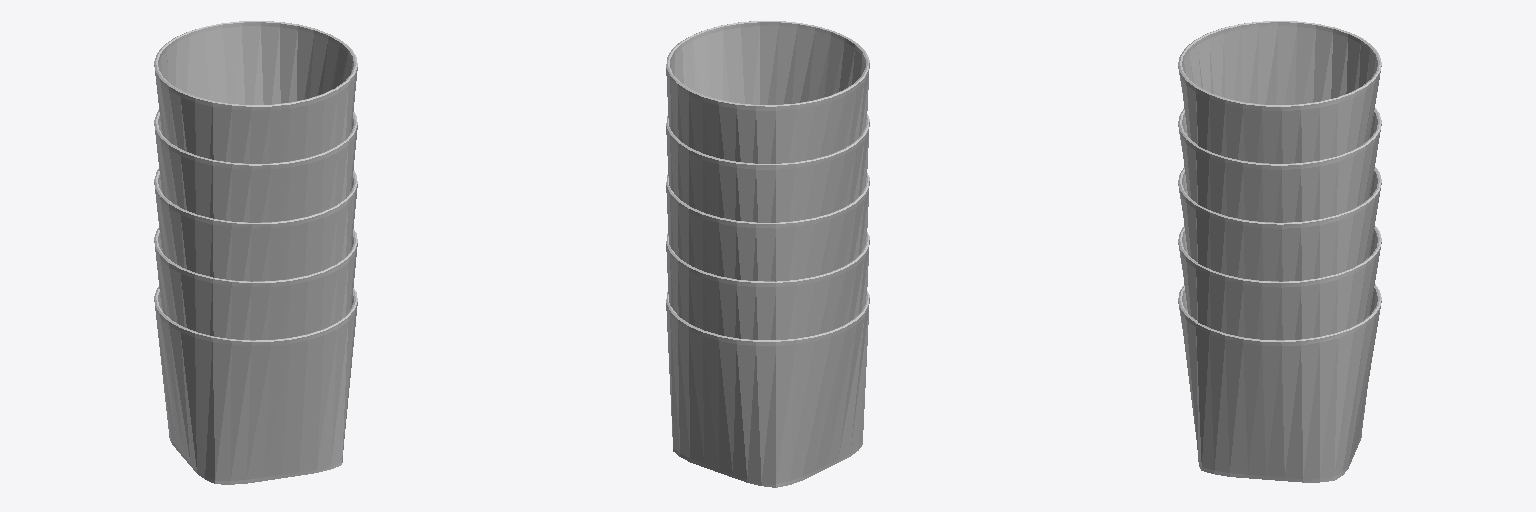
File: GlassWhiskeyStack.obj
3 views of the same model, side by side, from view 1: azimuth 30°, elevation 25°; view 2: azimuth 150°, elevation 25°; view 3: azimuth 270°, elevation 25° (orthographic).
Visible parts, largest first — view 1: WhiskeyGlass; view 2: WhiskeyGlass; view 3: WhiskeyGlass.
Part boxes in pixels (x1,y1,x2,y2): WhiskeyGlass: (154, 21, 357, 484); WhiskeyGlass: (666, 21, 869, 487); WhiskeyGlass: (1178, 21, 1381, 482).
Bounding box in the file's own units: 0.0868 × 0.1814 × 0.0868.